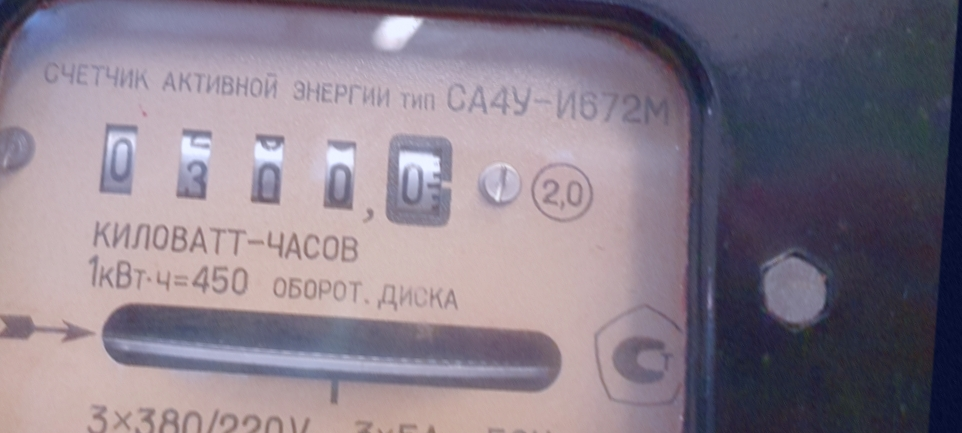0: (106, 133, 136, 186), (322, 161, 354, 209), (252, 157, 282, 207), (397, 160, 427, 210)
3: (179, 156, 210, 201)
screen: (77, 105, 464, 237)
